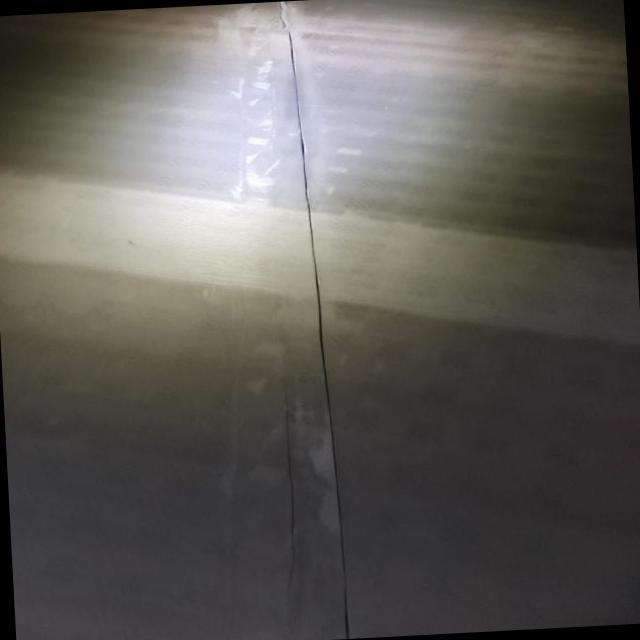Tear: (278, 6, 360, 636)
